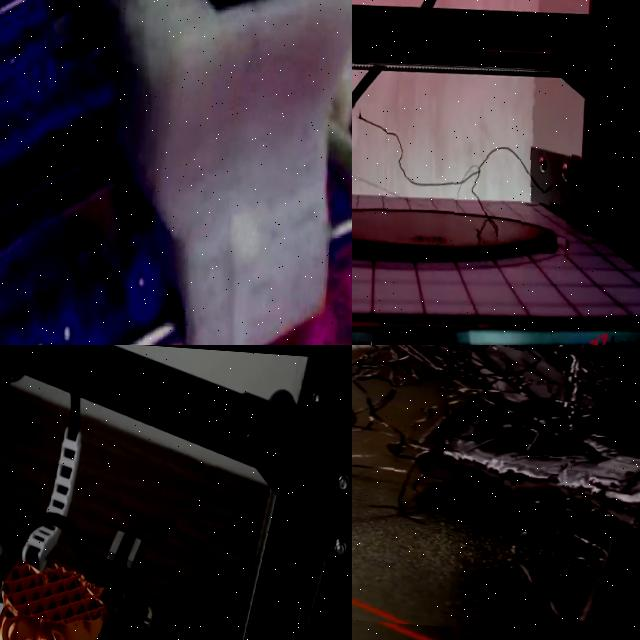spaghetti: (352, 345, 640, 639), (352, 97, 574, 254)
